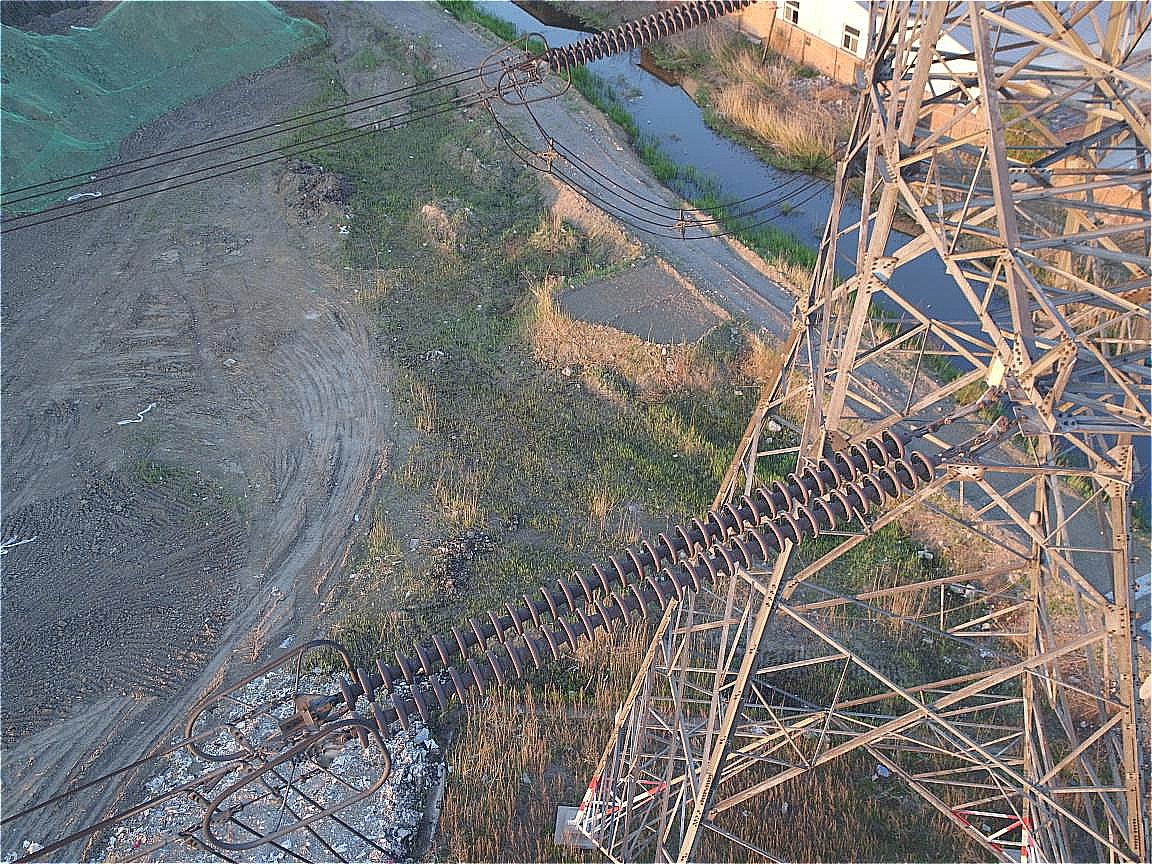insultor1: (340, 429, 936, 748)
